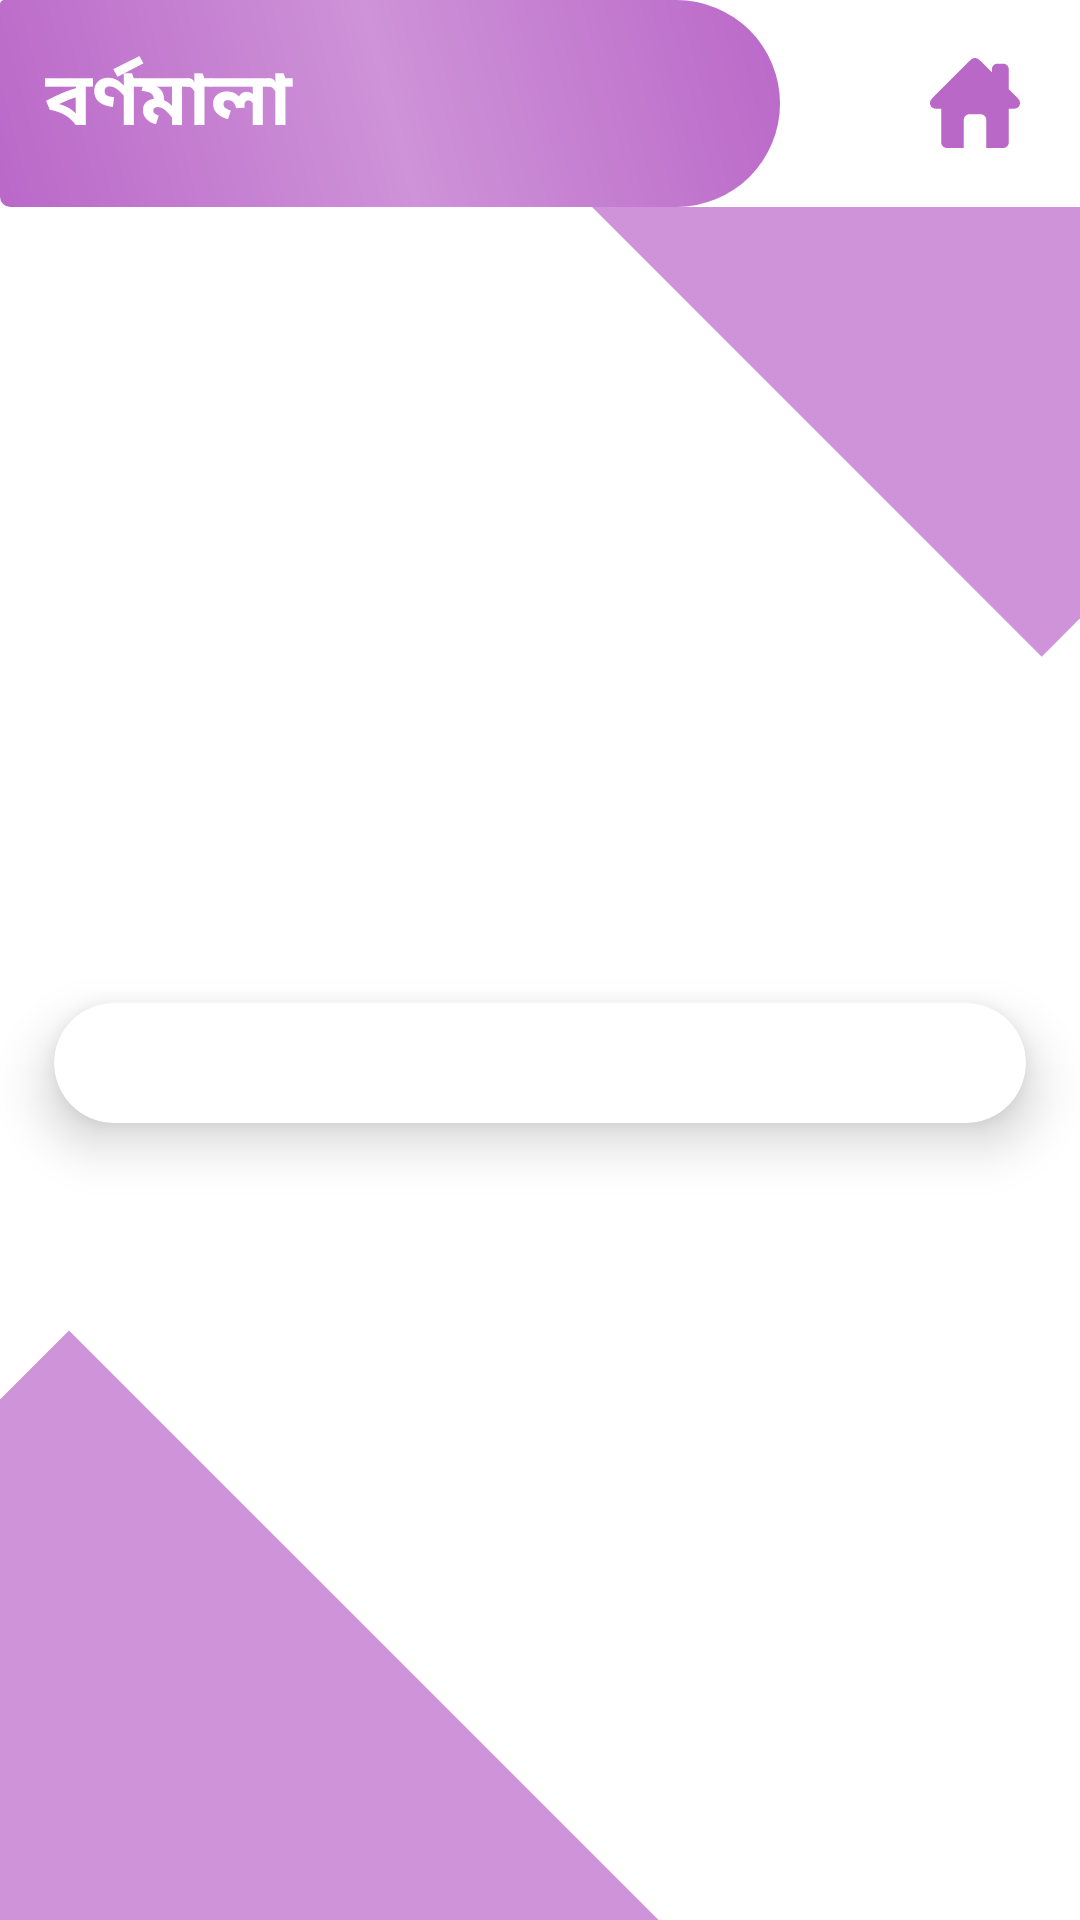

Icon bounding boxes for this 1080*1920 phone screenshot, format (x1, y1, x2, y2):
home: (930, 58, 1020, 148)
